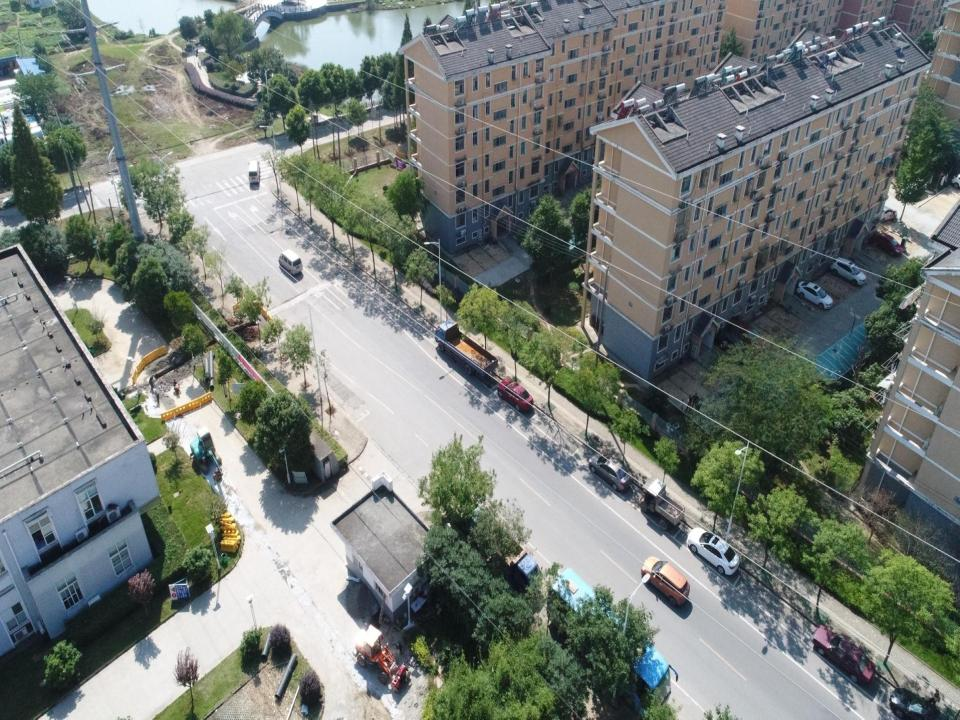car: (811, 624, 877, 684), (686, 526, 739, 577), (641, 556, 690, 607), (890, 686, 960, 718), (588, 452, 632, 490), (795, 277, 832, 311), (497, 379, 534, 412), (870, 226, 905, 256), (832, 256, 866, 286), (880, 207, 897, 222)
truck: (547, 567, 678, 720), (448, 488, 542, 592), (435, 320, 497, 377), (640, 475, 685, 530)
van: (278, 246, 302, 276), (246, 160, 260, 186)
